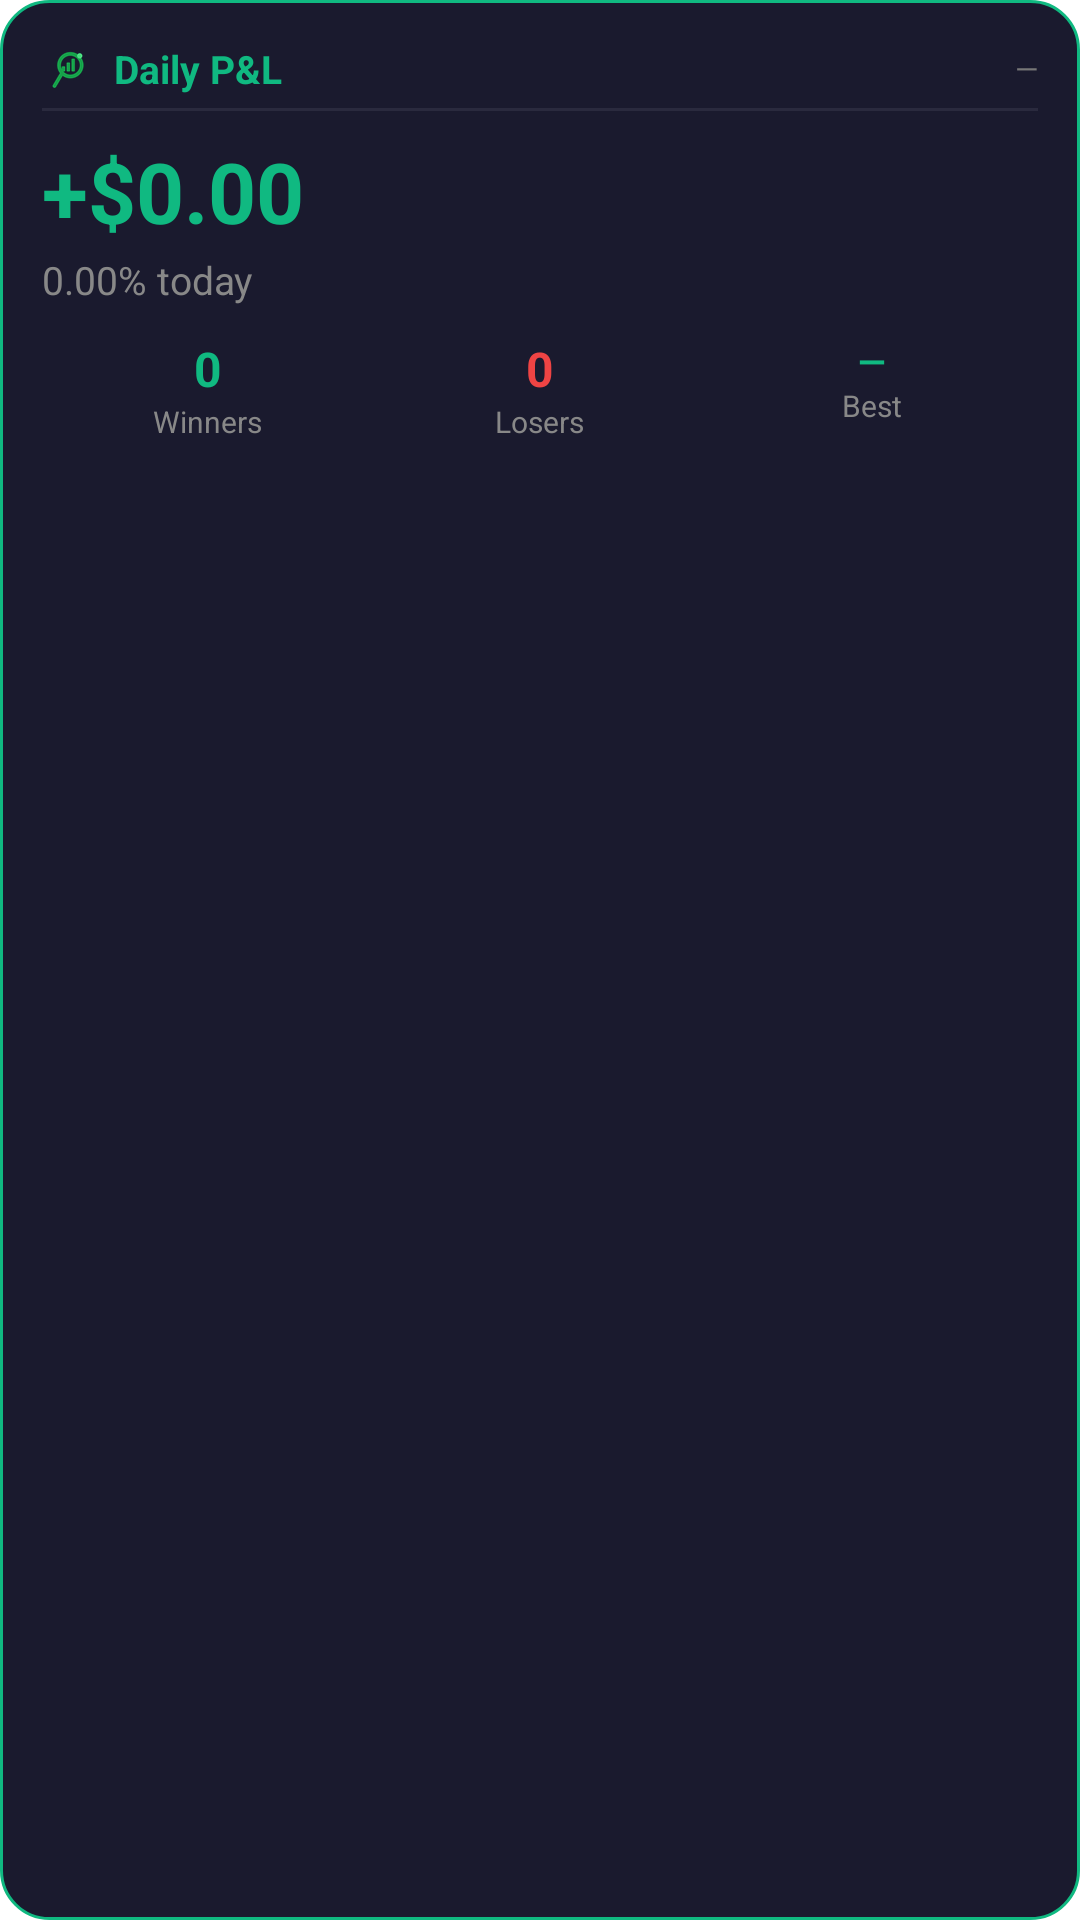

Screen size 1080 × 1920. Icon name, then its box in pixels as (x1, y1, x2, y2):
widget brand: (52, 52, 84, 88)
